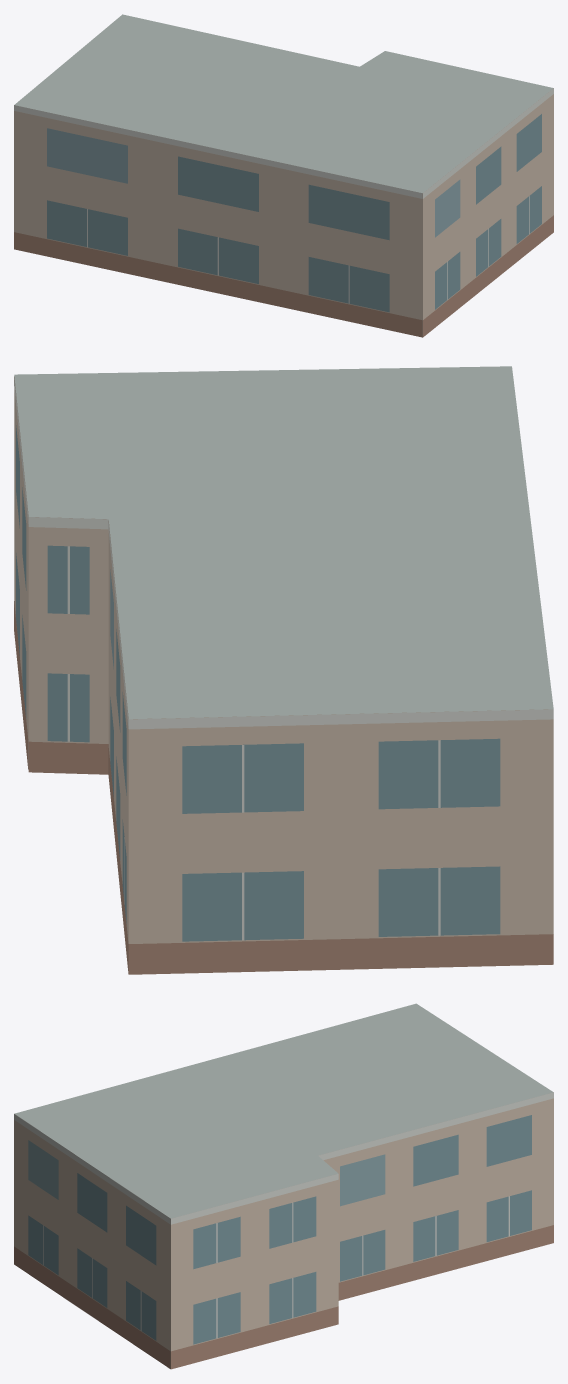
Rendered from survey-upis-32878991.glb.
The picture shows the model from 3 angles, top to bottom: view 1: azimuth 30°, elevation 25°; view 2: azimuth 150°, elevation 25°; view 3: azimuth 270°, elevation 25°; orthographic projection. The views are drawn at different scales.
Parts seen in each view (by area): view 1: survey-upis-32878991.tmp; view 2: survey-upis-32878991.tmp; view 3: survey-upis-32878991.tmp.
Boxes of the visible parts, x1,y1,x2,y2 form: survey-upis-32878991.tmp: [14, 14, 553, 337]; survey-upis-32878991.tmp: [14, 366, 553, 974]; survey-upis-32878991.tmp: [14, 1003, 553, 1369].
Size of the model in its own units: 18.69 by 6.1 by 19.81.
